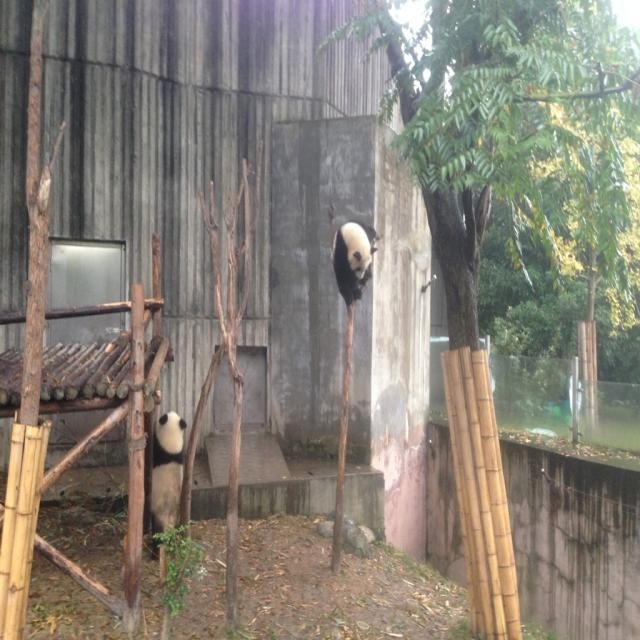panda: (150, 410, 188, 548), (333, 220, 374, 303)
